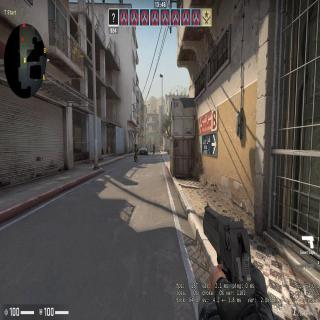CT-Body: (134, 142, 138, 162), (152, 143, 156, 155)
CT-Head: (134, 144, 136, 146), (154, 144, 154, 146)
